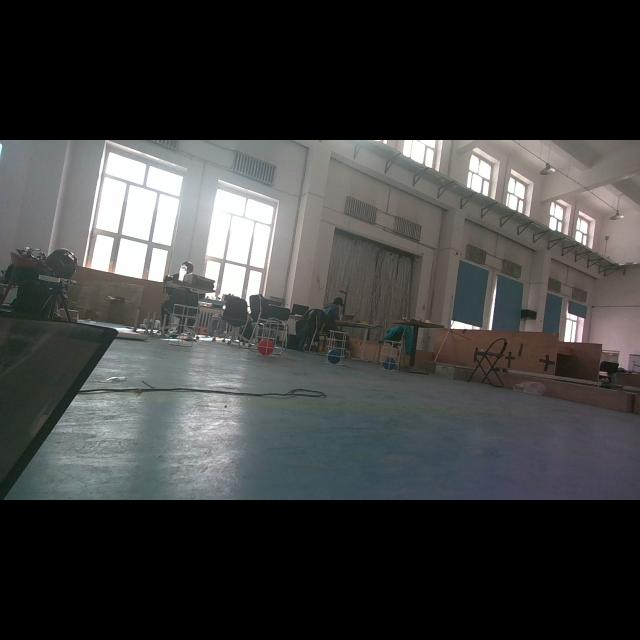B: (325, 350, 343, 364), (382, 358, 396, 370)
R: (255, 340, 275, 354)
S: (163, 302, 200, 350), (252, 317, 282, 359), (324, 328, 352, 368), (378, 336, 404, 372)
